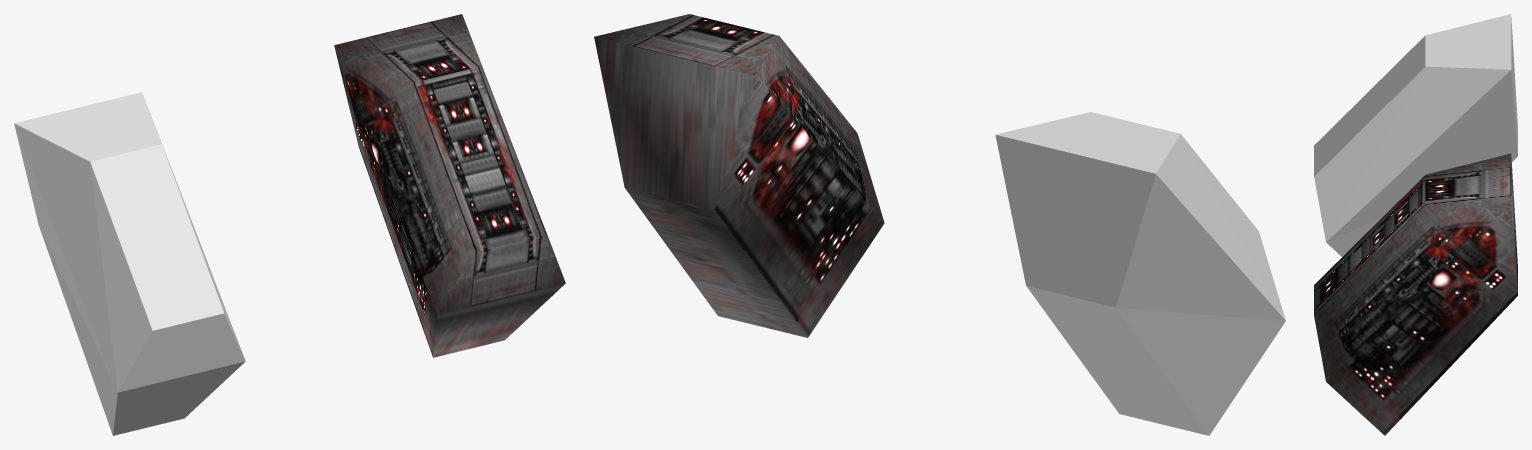
Rendered from bst_cs_module_firecontrol.dae.
3 views of the same model, side by side, from view 1: azimuth 30°, elevation 25°; view 2: azimuth 150°, elevation 25°; view 3: azimuth 270°, elevation 25° (orthographic). The views are drawn at different scales.
Visible parts, largest first — view 1: COL[Root], MULT[Root Mesh]_LOD[0]; view 2: COL[Root], MULT[Root Mesh]_LOD[0]; view 3: MULT[Root Mesh]_LOD[0], COL[Root].
Boxes of the visible parts, x1,y1,x2,y2 form: COL[Root]: [14, 92, 245, 435]; MULT[Root Mesh]_LOD[0]: [334, 14, 565, 357]; COL[Root]: [995, 112, 1285, 435]; MULT[Root Mesh]_LOD[0]: [594, 14, 884, 337]; MULT[Root Mesh]_LOD[0]: [1314, 153, 1517, 435]; COL[Root]: [1314, 14, 1517, 256].
Size of the model in its own units: 330 by 188 by 146.
Materials: 1 (1 with a texture image).
